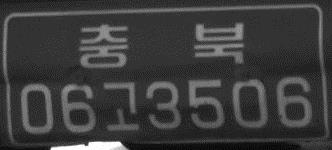0: (18, 81, 56, 136), (231, 77, 268, 129)
3: (144, 78, 182, 131)
5: (186, 76, 226, 131)
6: (275, 73, 315, 130), (60, 80, 96, 135)
고: (101, 77, 141, 134)
충북_D: (76, 19, 247, 71)
